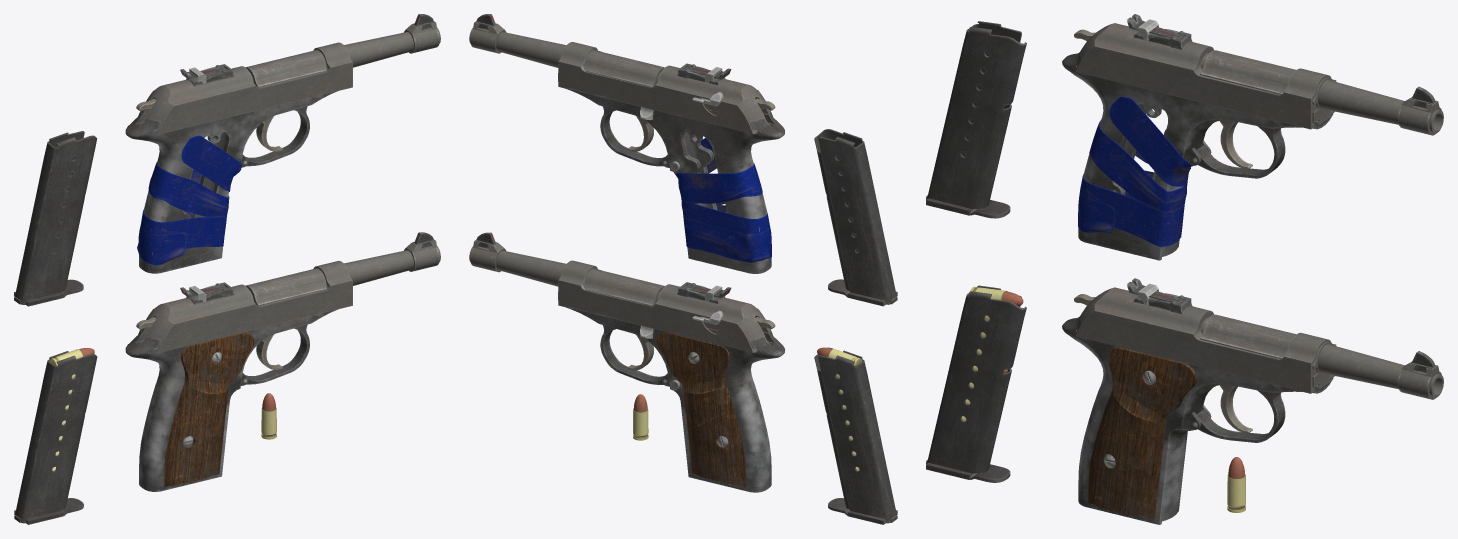
Rendered from service_pistol.glb.
3 views of the same model, side by side, from view 1: azimuth 30°, elevation 25°; view 2: azimuth 150°, elevation 25°; view 3: azimuth 330°, elevation 25° (orthographic). The views are drawn at different scales.
Visible parts, largest first — view 1: service_pistol_pistol_b, service_pistol_pistol_a, service_pistol_magazine_loaded, service_pistol_magazine_empty, service_pistol_slide_a, service_pistol_slide_b, service_pistol_bullet; view 2: service_pistol_pistol_b, service_pistol_pistol_a, service_pistol_magazine_loaded, service_pistol_magazine_empty, service_pistol_slide_b, service_pistol_slide_a, service_pistol_bullet; view 3: service_pistol_pistol_a, service_pistol_pistol_b, service_pistol_magazine_loaded, service_pistol_magazine_empty, service_pistol_slide_b, service_pistol_slide_a, service_pistol_bullet, service_pistol_trigger_b, service_pistol_trigger_a.
Part boxes in pixels (x1,y1,x2,y2): service_pistol_pistol_b: (125, 14, 440, 273); service_pistol_pistol_a: (125, 232, 440, 491); service_pistol_magazine_loaded: (14, 348, 97, 524); service_pistol_magazine_empty: (14, 131, 97, 306); service_pistol_slide_a: (141, 261, 352, 352); service_pistol_slide_b: (141, 42, 352, 134); service_pistol_bullet: (261, 393, 276, 439); service_pistol_pistol_b: (469, 14, 784, 273); service_pistol_pistol_a: (469, 232, 784, 492); service_pistol_magazine_loaded: (814, 347, 897, 524); service_pistol_magazine_empty: (814, 129, 897, 306); service_pistol_slide_b: (558, 42, 772, 134); service_pistol_slide_a: (558, 260, 772, 352); service_pistol_bullet: (633, 394, 648, 440); service_pistol_pistol_a: (1062, 314, 1443, 524); service_pistol_pistol_b: (1062, 50, 1443, 260); service_pistol_magazine_loaded: (926, 285, 1026, 482); service_pistol_magazine_empty: (926, 21, 1026, 218); service_pistol_slide_b: (1075, 14, 1336, 129); service_pistol_slide_a: (1075, 278, 1336, 393); service_pistol_bullet: (1227, 457, 1245, 512); service_pistol_trigger_b: (1220, 120, 1252, 169); service_pistol_trigger_a: (1220, 384, 1252, 433).
Bounding box in the file's own units: 0.3016 × 0.2806 × 0.0319.
1 material, 1 textured.
